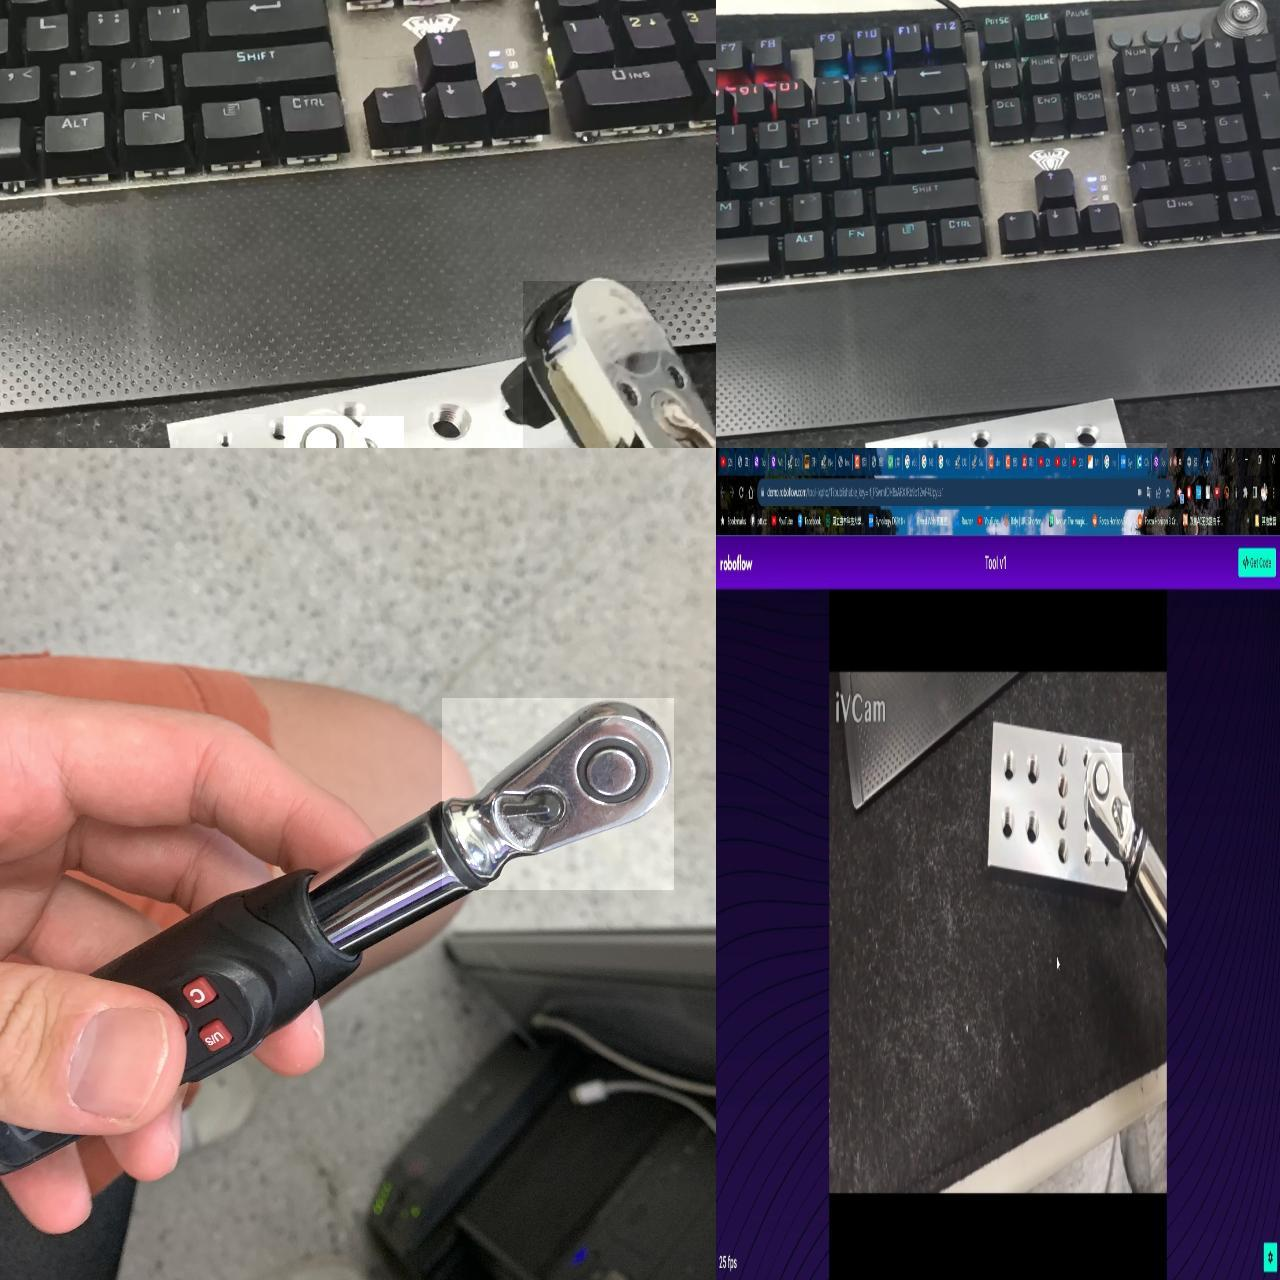Tool: (442, 697, 674, 890), (523, 281, 716, 448), (1087, 753, 1133, 862), (284, 416, 404, 448)
